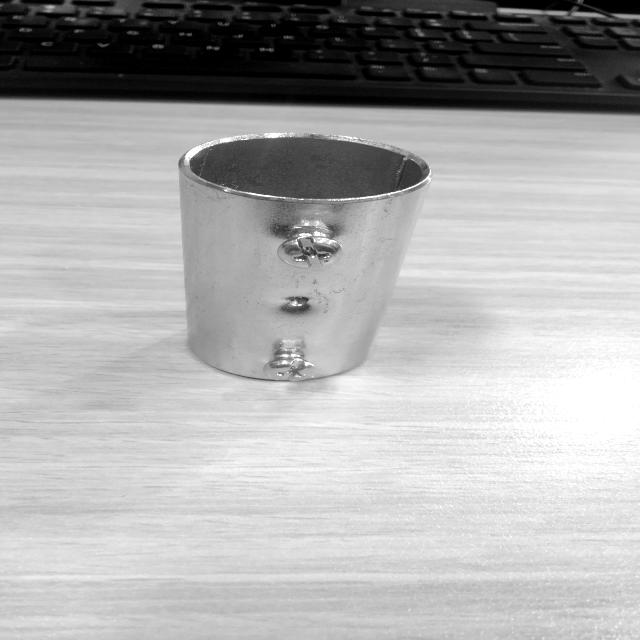Co_Nho: (163, 124, 434, 391)
